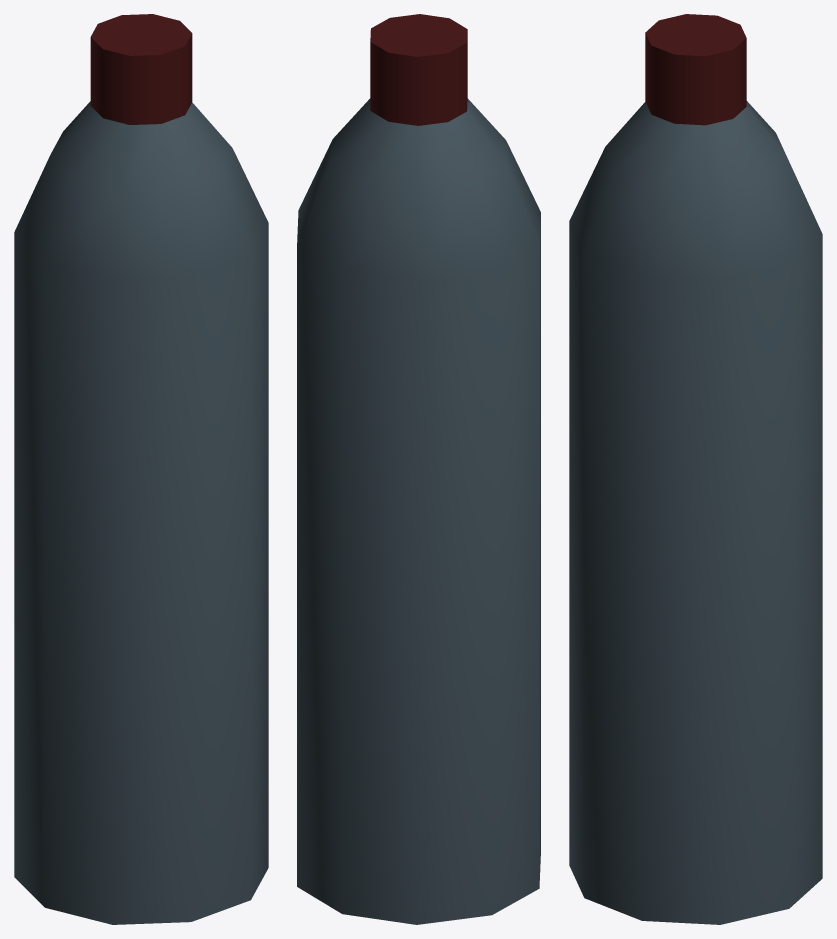
File: Bottle.fbx
3 renders of one model, left to right at view 1: azimuth 30°, elevation 25°; view 2: azimuth 150°, elevation 25°; view 3: azimuth 270°, elevation 25°, orthographic.
Visible parts, largest first — view 1: bytulkapl_01; view 2: bytulkapl_01; view 3: bytulkapl_01.
Boxes of the visible parts, x1=… form: bytulkapl_01: x1=14, y1=14, x2=268, y2=924; bytulkapl_01: x1=297, y1=14, x2=540, y2=924; bytulkapl_01: x1=569, y1=14, x2=822, y2=924.
Bounding box in the file's own units: 624 × 2301 × 631.
